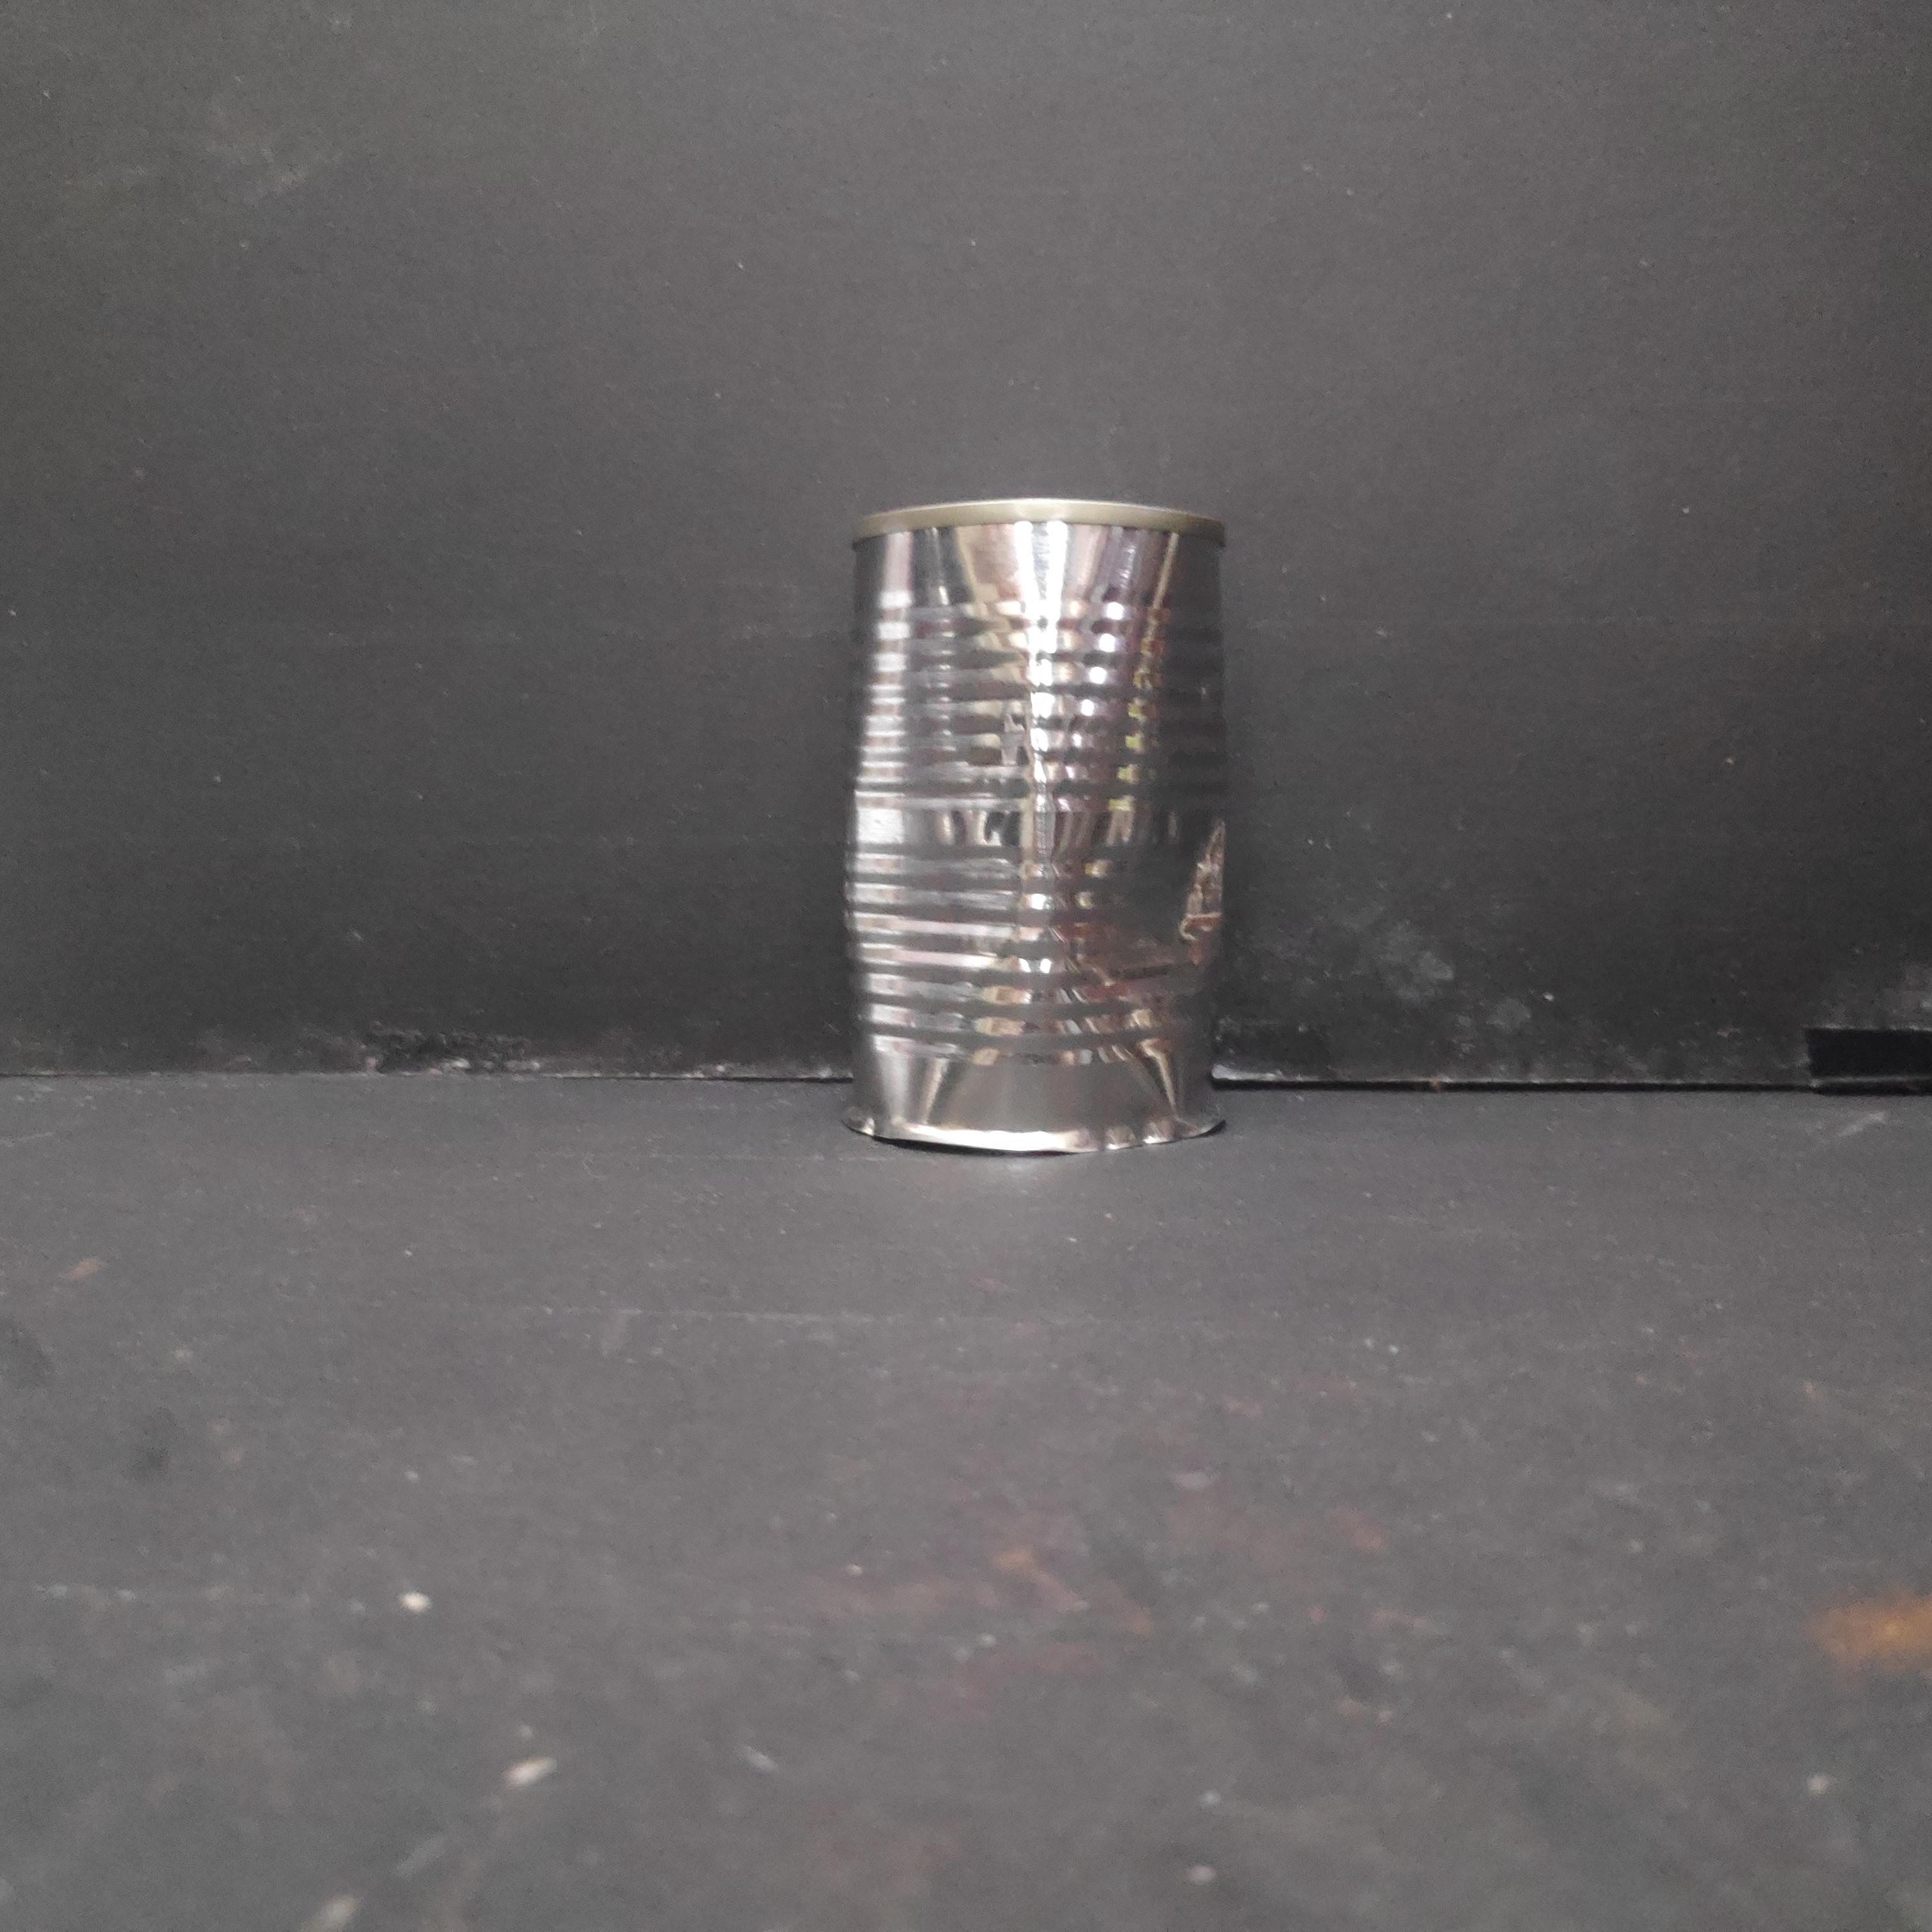Minor Defect: (828, 487, 1246, 1169)
